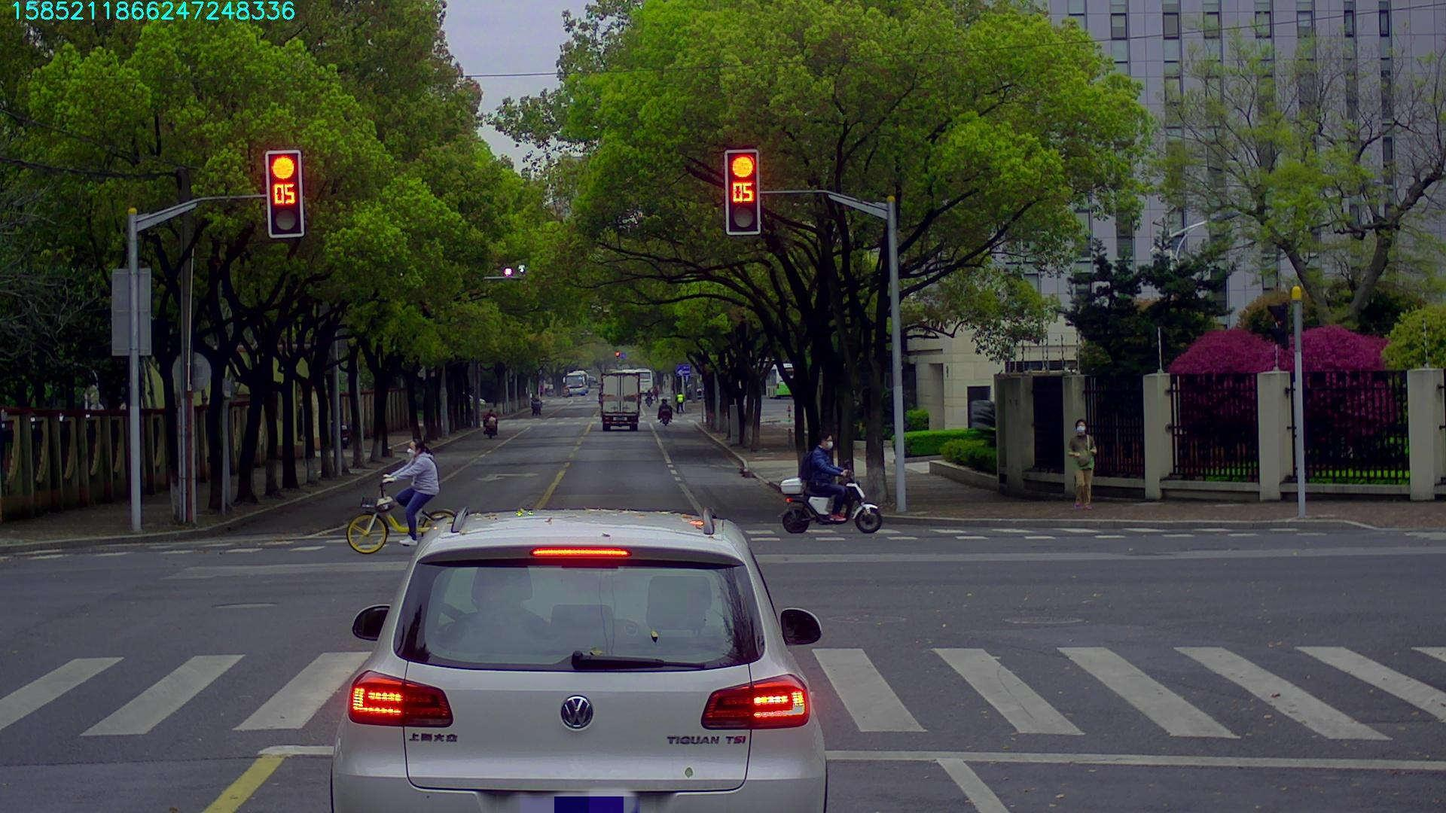red: (267, 151, 302, 236), (726, 152, 759, 233)
